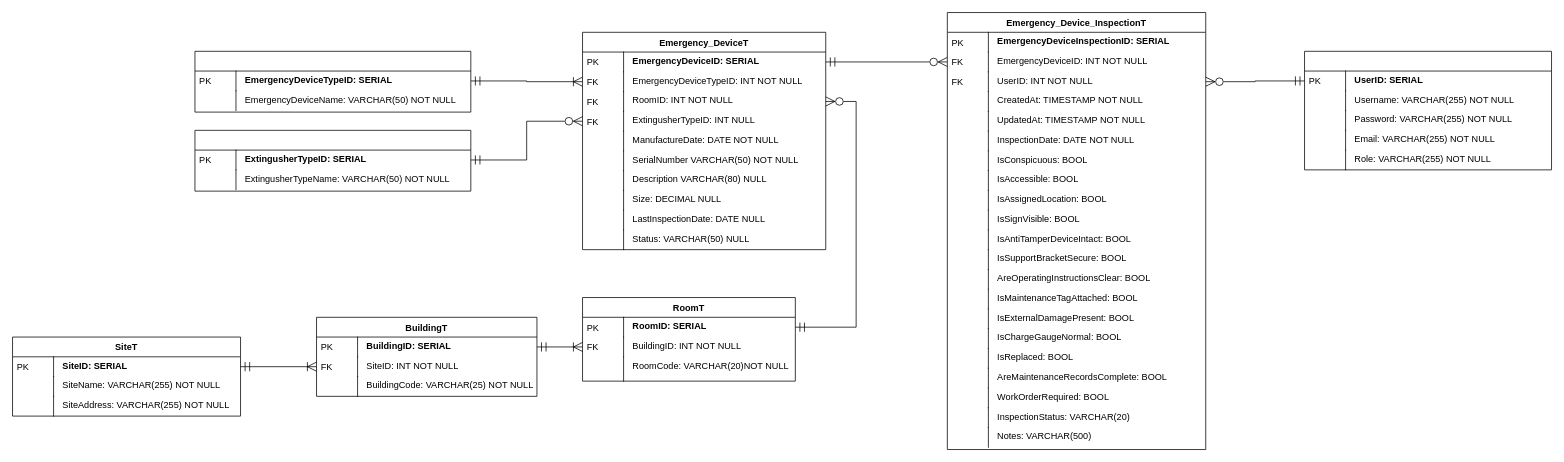
The diagram is 1564 pixels wide and 462 high, and some of its shapes have lost their labels. The box of each missing label's shape, as (x1, y1, x2, y2) in pixels:
Emergency_Device_TypeT: (194, 51, 471, 112)
Extingusher_TypeT: (194, 130, 471, 191)
UserT: (1304, 51, 1552, 170)
